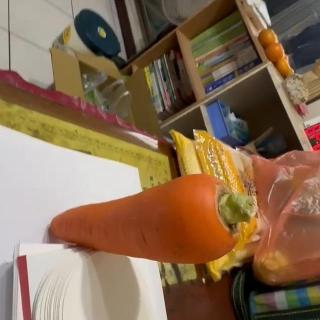carrot: (49, 173, 257, 264)
